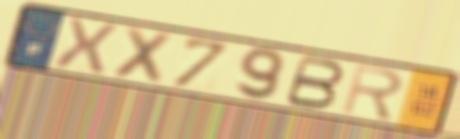7: (173, 35, 235, 91)
9: (231, 47, 288, 102)
B: (281, 53, 348, 111)
R: (338, 62, 406, 123)
X: (107, 24, 178, 88), (49, 14, 121, 77)
